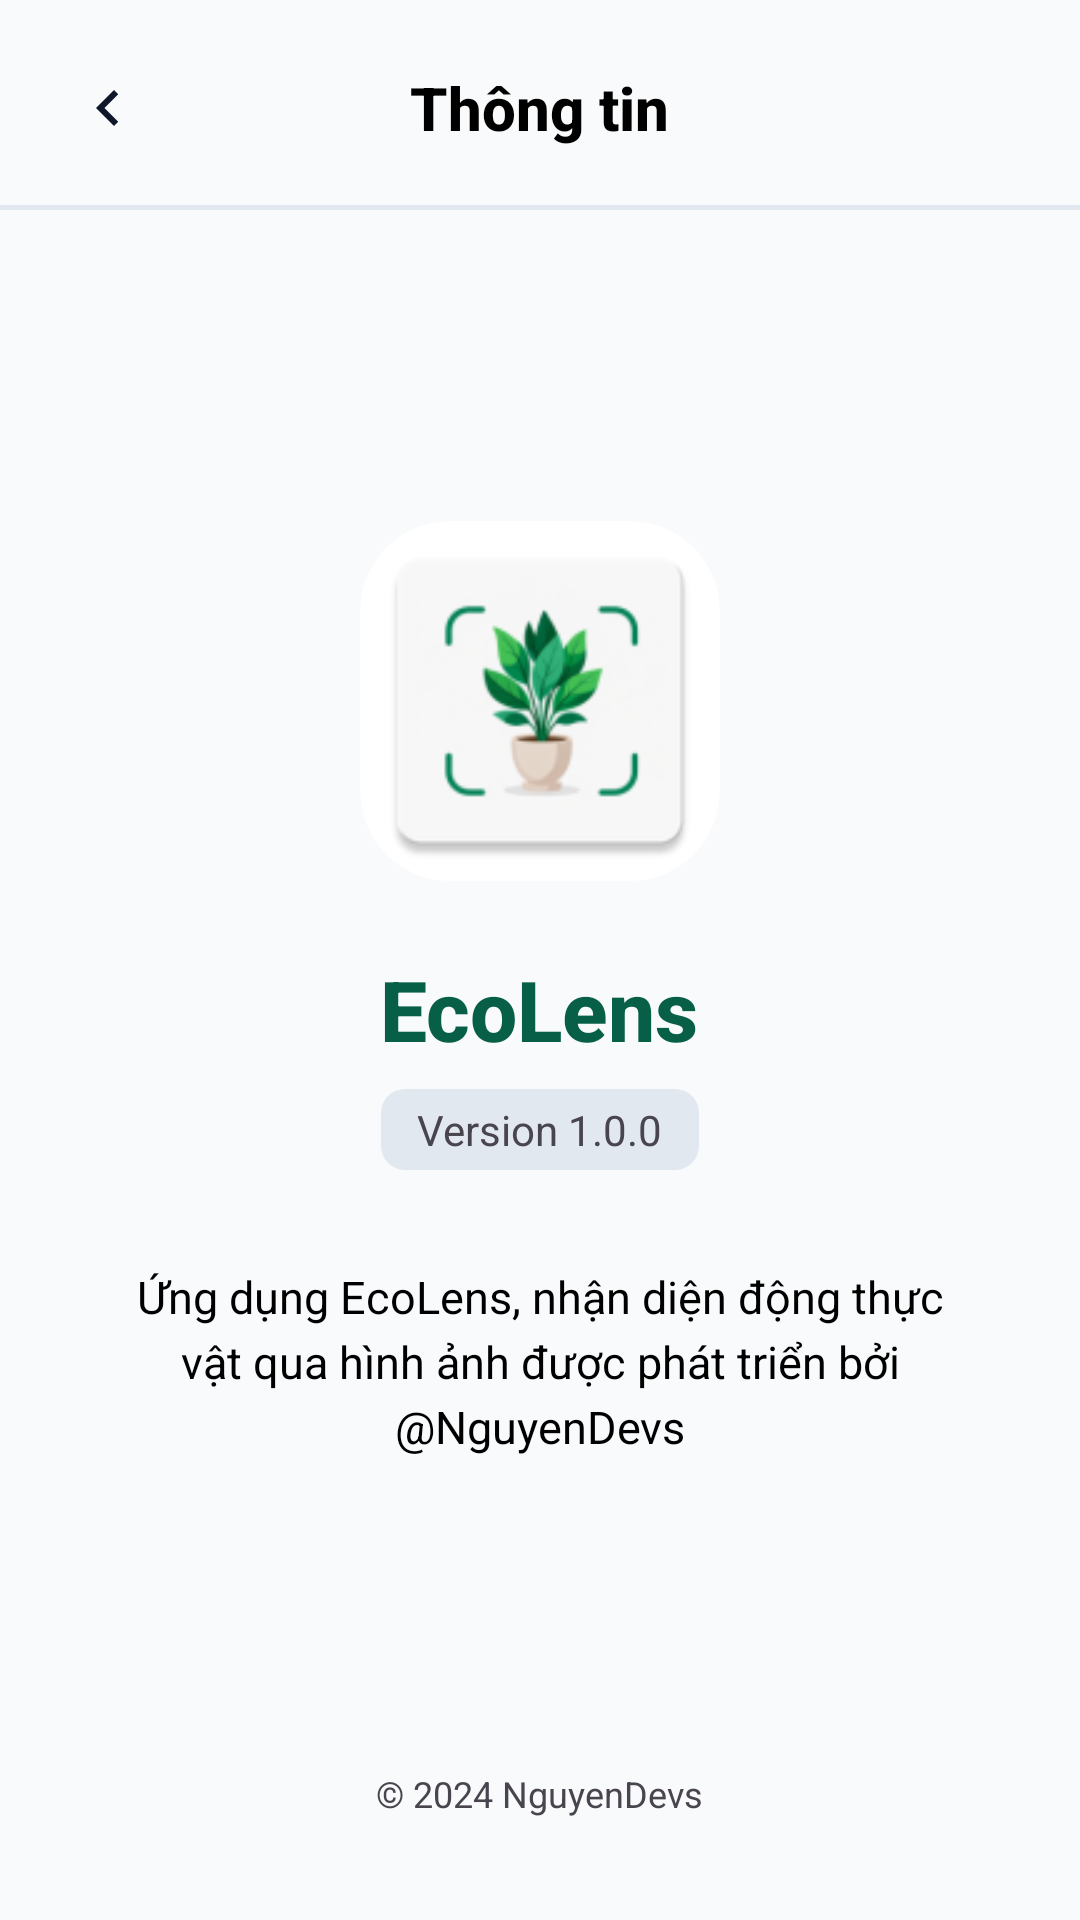

Screen size 1080x1920. Icon name, then its box in pixels as (x1, y1, x2, y2):
Quay lại: (96, 90, 118, 126)
